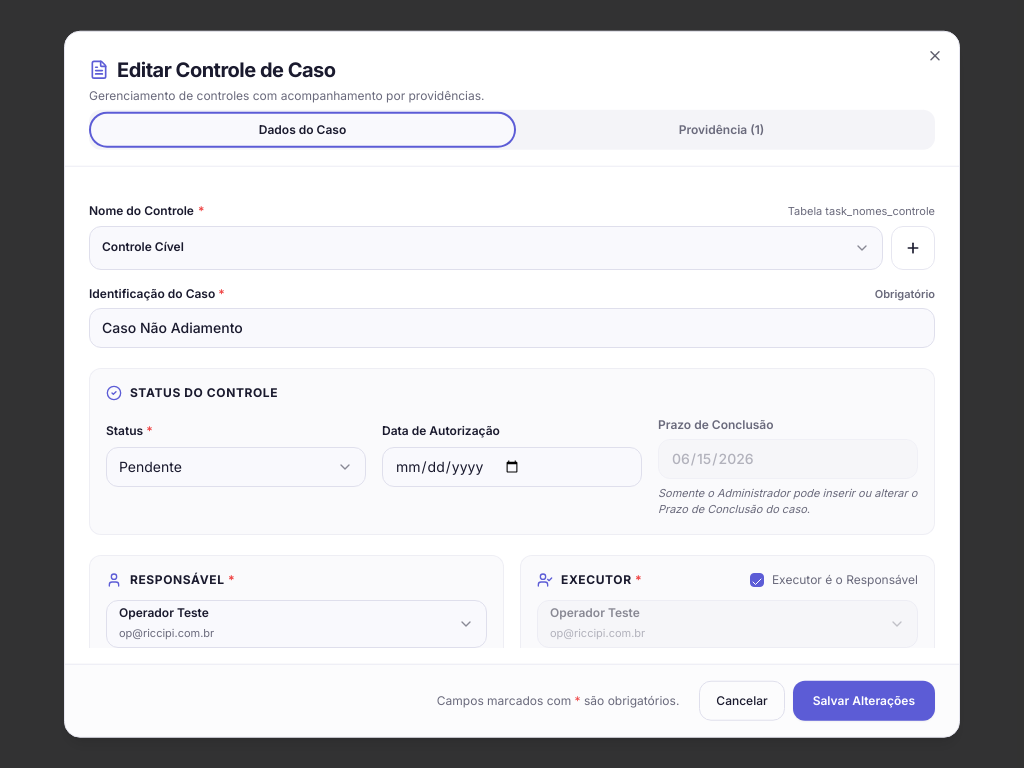
Scenario: ControleModal - Fluxo de Solicitação de Adiamento › escolha "Não" fecha o diálogo Sim/Não e preserva todo o preenchimento sem gravar nada
This screenshot has width=1024, height=768.
expect the field showing "Caso Não Adiamento" is shown: met, box top-left (89, 307), bottom-right (935, 347)
Press the mouse on the tab "Providência (1)" at (722, 130), box top-left (512, 116), bottom-right (931, 144)
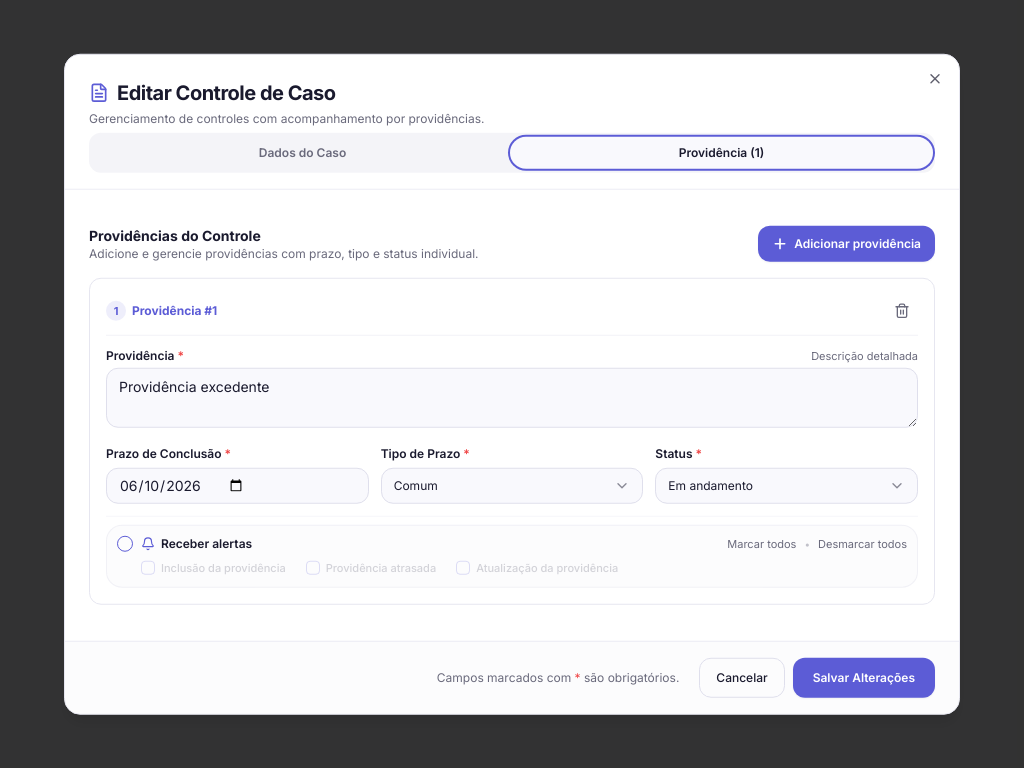
expect the date field is shown: met
Type "2026-06-25" into the date field.
click(237, 486); type("2026-06-25")  # box top-left (106, 468), bottom-right (369, 504)
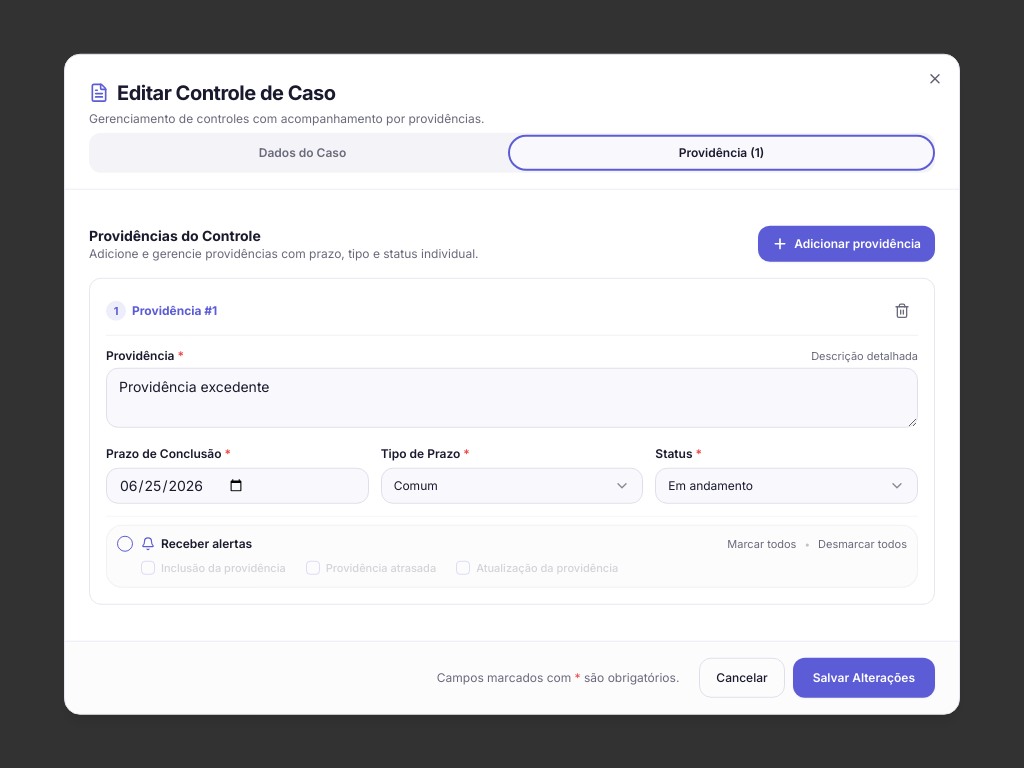
Press the mouse on the tab "Dados do Caso" at (302, 153), box top-left (93, 139), bottom-right (512, 167)
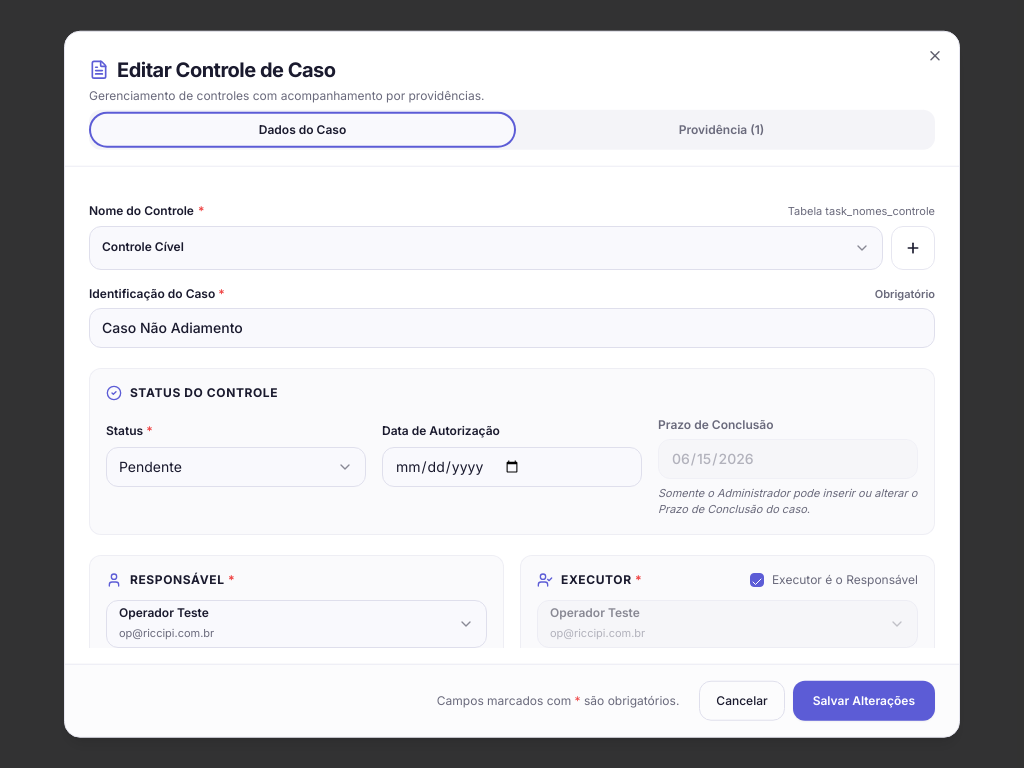
Click the button "Salvar Alterações".
click(864, 700)  # box top-left (793, 680), bottom-right (935, 720)
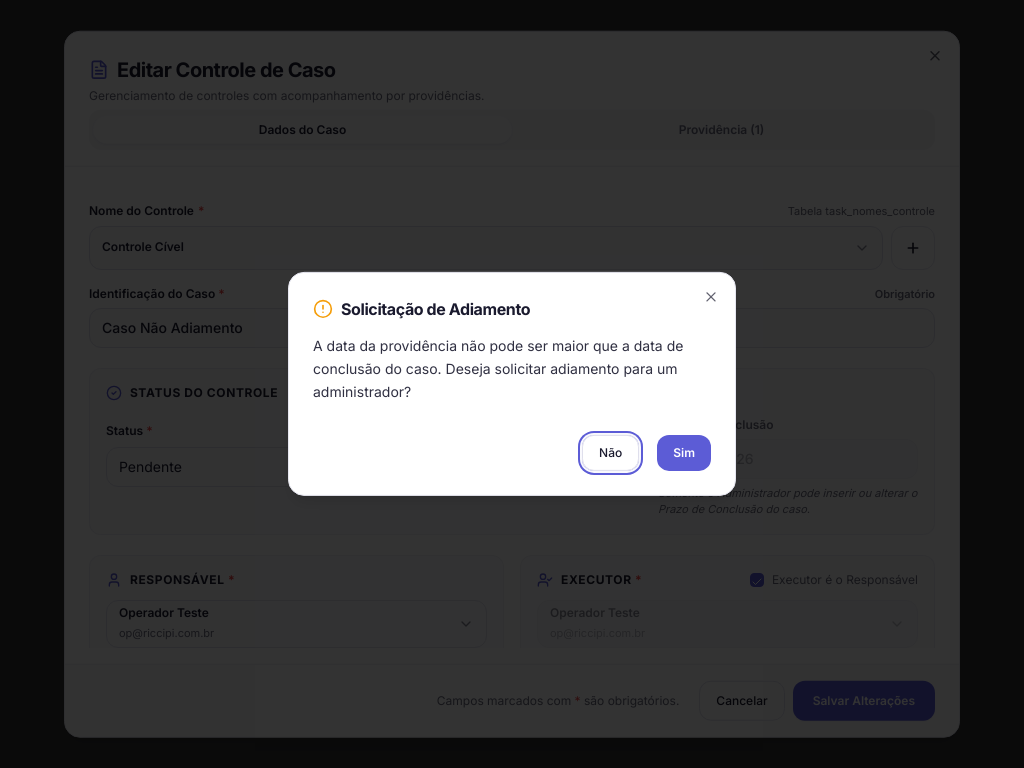
Click the button "Não".
click(611, 453)  # box top-left (582, 435), bottom-right (639, 471)
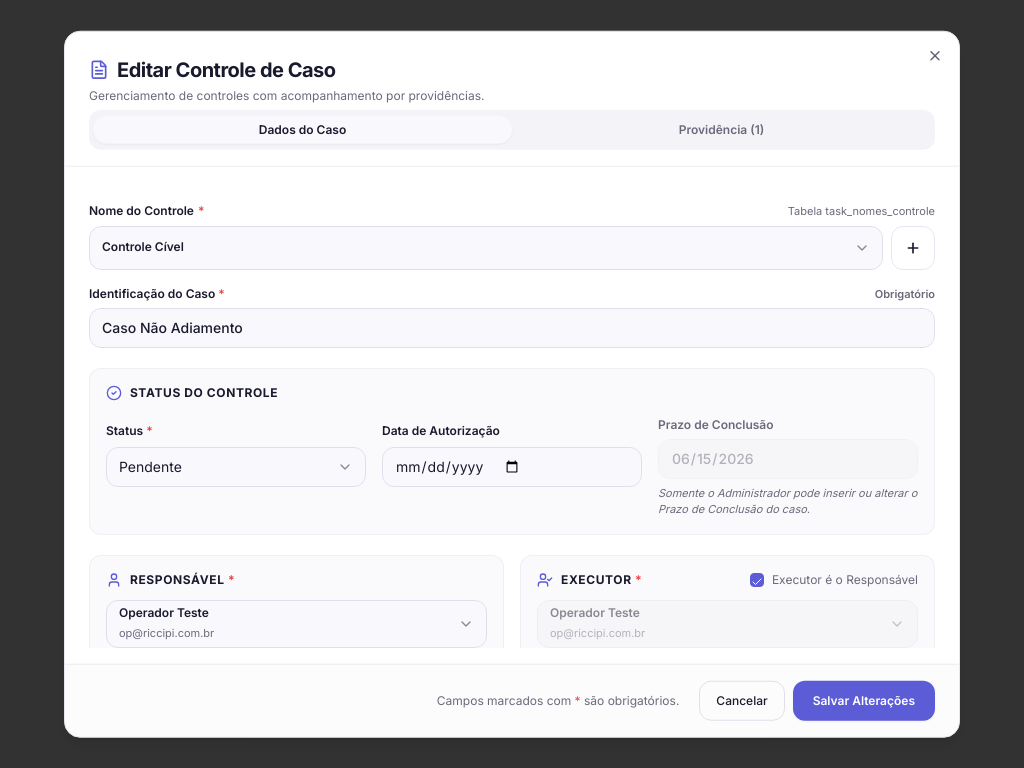
expect the field showing "Caso Não Adiamento" is shown: met, box top-left (89, 307), bottom-right (935, 347)
expect the text "A data da providência não pode ser maior que a data de conclusão do caso" is gone: met
